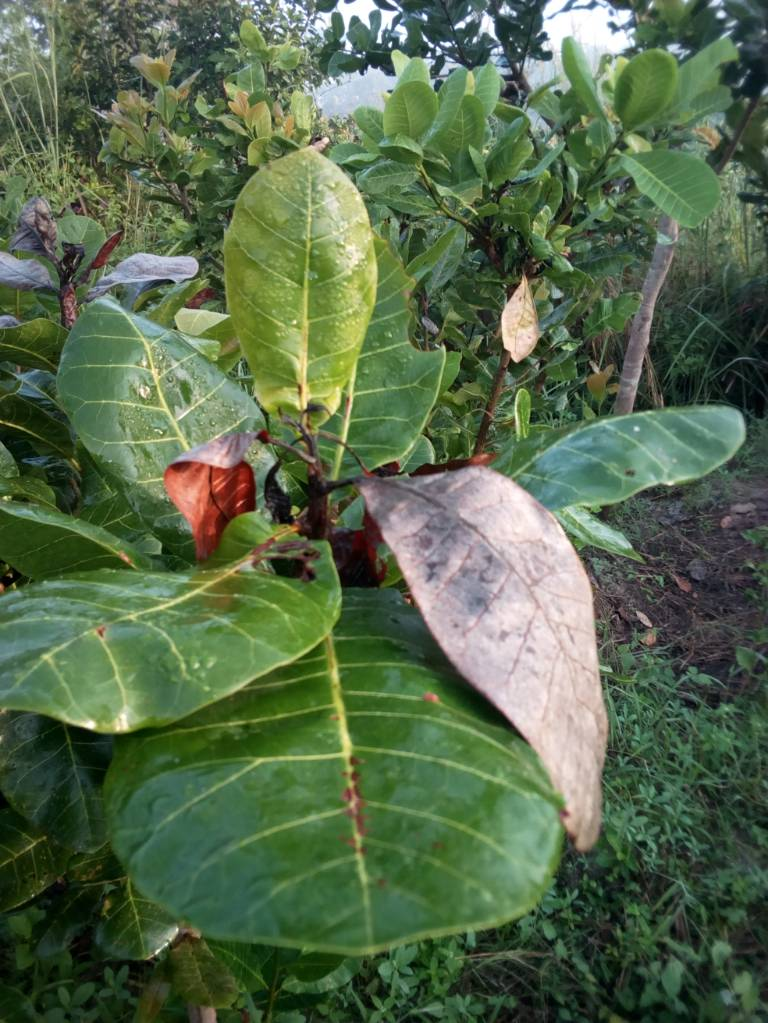Dessèchement des bourgeons: (253, 422, 392, 561)
